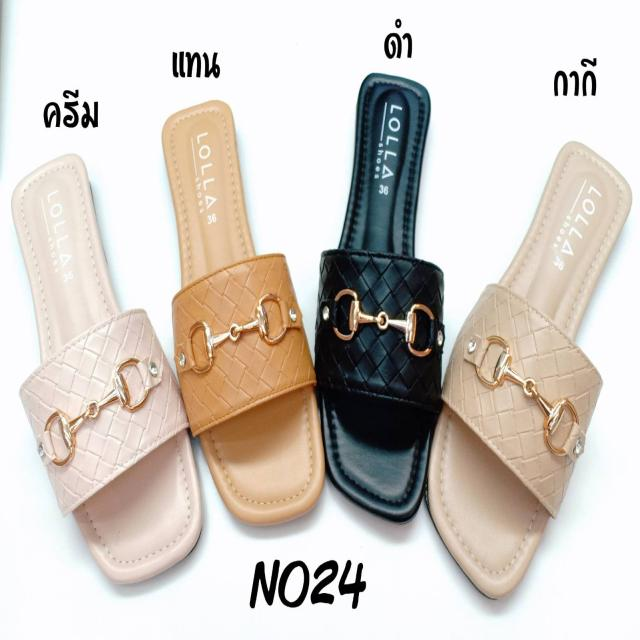black: (317, 66, 436, 512)
cream: (11, 154, 199, 582)
kakee: (434, 140, 629, 588)
tan: (162, 100, 325, 516)
